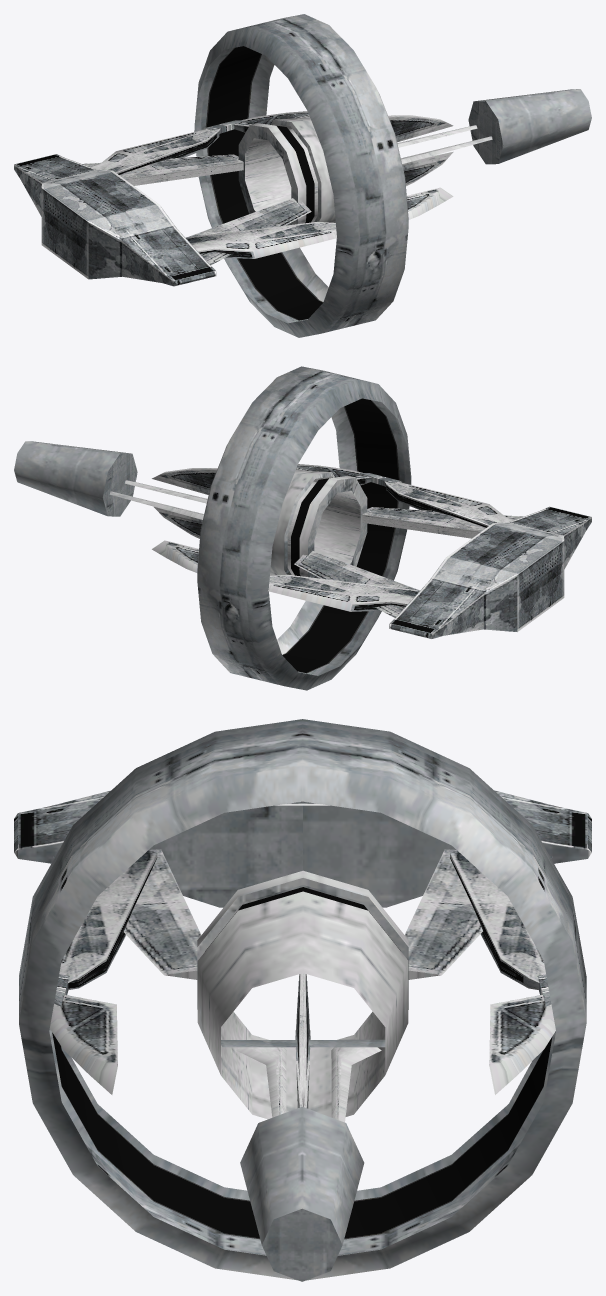
Rendered from stp33.obj.
3 views of the same model, one above another, from view 1: azimuth 30°, elevation 25°; view 2: azimuth 150°, elevation 25°; view 3: azimuth 270°, elevation 25° (orthographic). The views are drawn at different scales.
Visible parts, largest first — view 1: CIRCLE0, T_EXP3_PROF0, BACK0.003, WING_L_10, WING_R_10, WING_L_20, WING_R_20; view 2: CIRCLE0, T_EXP3_PROF0, BACK0.003, WING_R_10, WING_L_10, WING_R_20, WING_L_20; view 3: CIRCLE0, T_EXP3_PROF0, BACK0.003, WING_L_10, WING_R_10, WING_L_20, WING_R_20.
Part boxes in pixels (x1,y1,x2,y2): CIRCLE0: (194, 14, 408, 337); T_EXP3_PROF0: (14, 117, 335, 286); BACK0.003: (388, 89, 591, 186); WING_L_10: (186, 221, 336, 258); WING_R_10: (91, 128, 220, 174); WING_L_20: (406, 187, 453, 219); WING_R_20: (203, 111, 309, 133); CIRCLE0: (197, 366, 411, 690); T_EXP3_PROF0: (270, 470, 591, 638); BACK0.003: (14, 441, 217, 538); WING_R_10: (268, 574, 419, 611); WING_L_10: (384, 481, 513, 527); WING_R_20: (152, 540, 198, 572); WING_L_20: (296, 464, 401, 486); CIRCLE0: (19, 719, 586, 1280); T_EXP3_PROF0: (14, 790, 591, 1119); BACK0.003: (221, 973, 385, 1281); WING_L_10: (59, 850, 157, 990); WING_R_10: (450, 850, 545, 989); WING_L_20: (50, 974, 117, 1094); WING_R_20: (489, 974, 555, 1094).
Bounding box in the file's own units: 65.14 × 34.88 × 35.51.
Materials: 9 (9 with a texture image).
